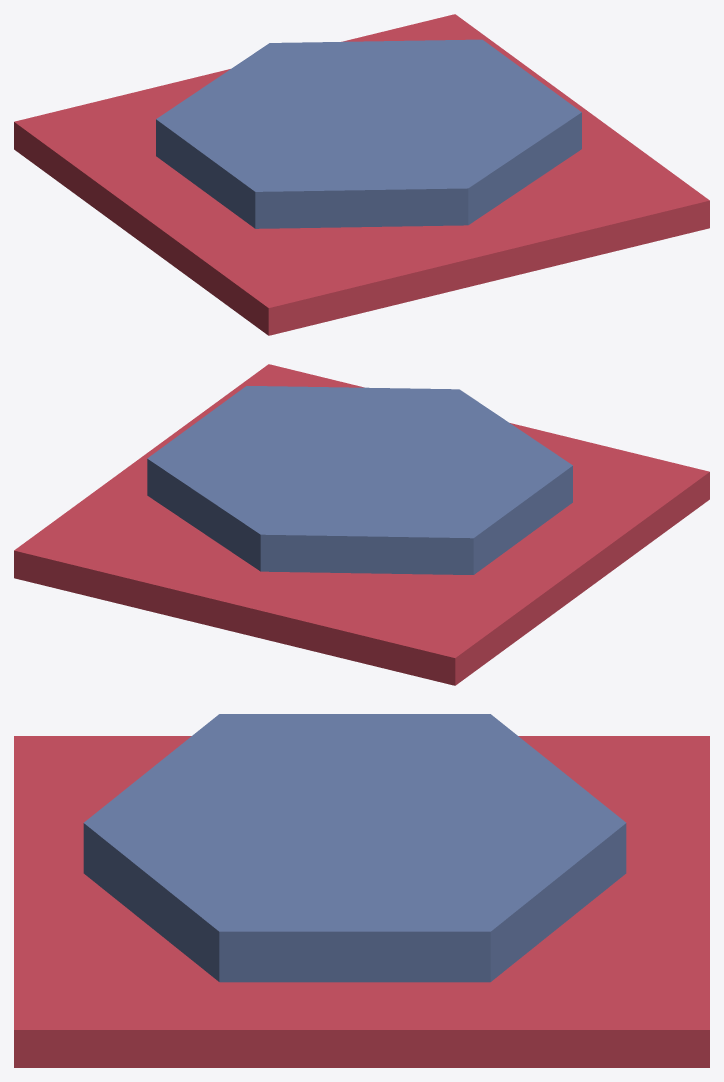
Rendered from tinkercad-1.glb.
The picture shows the model from 3 angles, top to bottom: view 1: azimuth 30°, elevation 25°; view 2: azimuth 150°, elevation 25°; view 3: azimuth 270°, elevation 25°; orthographic projection. The views are drawn at different scales.
Parts seen in each view (by area): view 1: Mesh_Mesh_head_geo.001_lambert2SG.001; view 2: Mesh_Mesh_head_geo.001_lambert2SG.001; view 3: Mesh_Mesh_head_geo.001_lambert2SG.001.
Boxes of the visible parts, box(x1,y1,x2,y2) form: Mesh_Mesh_head_geo.001_lambert2SG.001: box(14, 14, 709, 335); Mesh_Mesh_head_geo.001_lambert2SG.001: box(14, 364, 709, 685); Mesh_Mesh_head_geo.001_lambert2SG.001: box(14, 714, 709, 1067).
Bounding box in the file's own units: 50 × 8 × 50.
